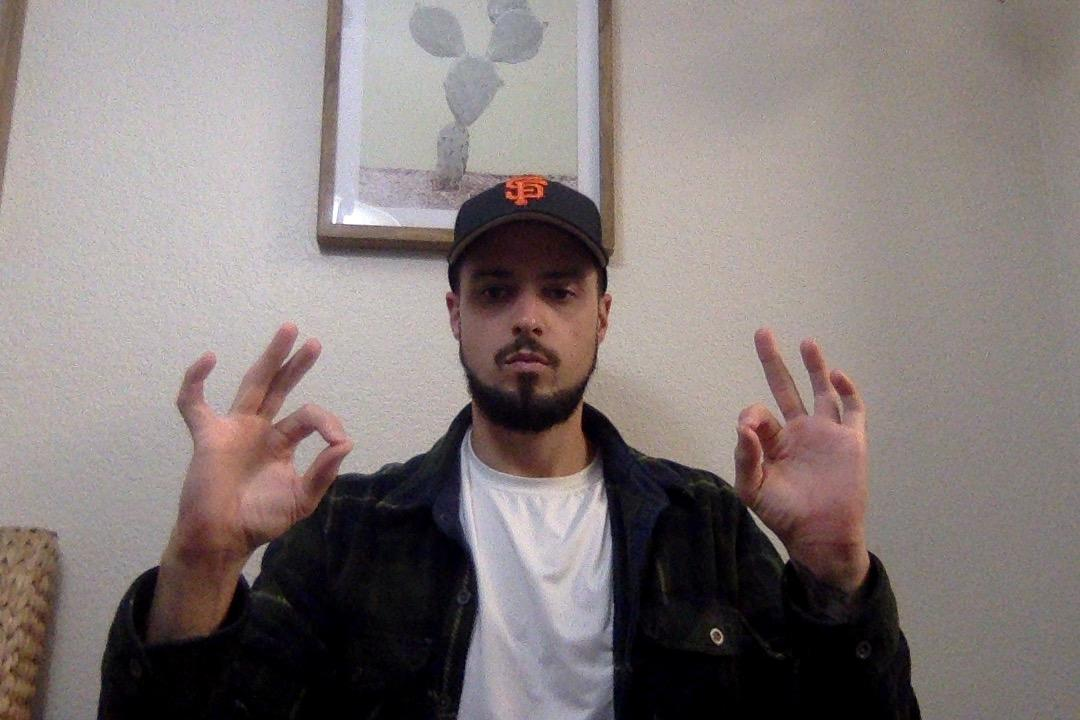Okay: (162, 323, 359, 559), (730, 328, 883, 578)
